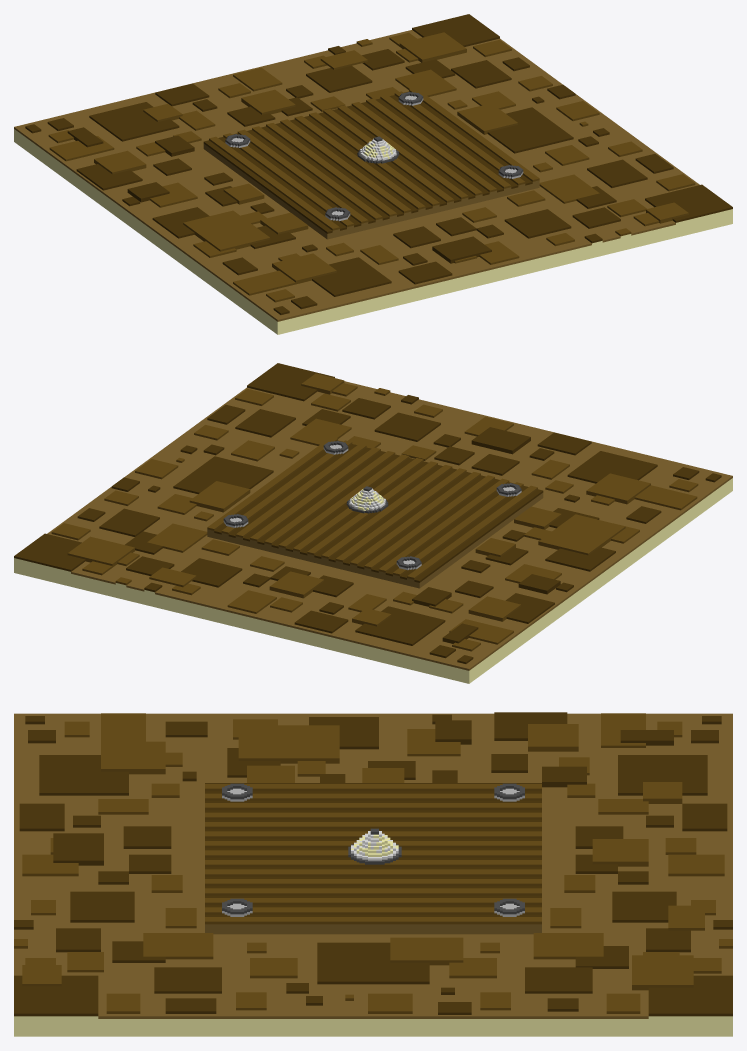
Rendered from Ceiling.obj.
3 views of the same model, one above another, from view 1: azimuth 30°, elevation 25°; view 2: azimuth 150°, elevation 25°; view 3: azimuth 270°, elevation 25° (orthographic). The views are drawn at different scales.
Bounding box in the file's own units: 25.5 × 2.3 × 25.6.
1 material, 1 textured.
